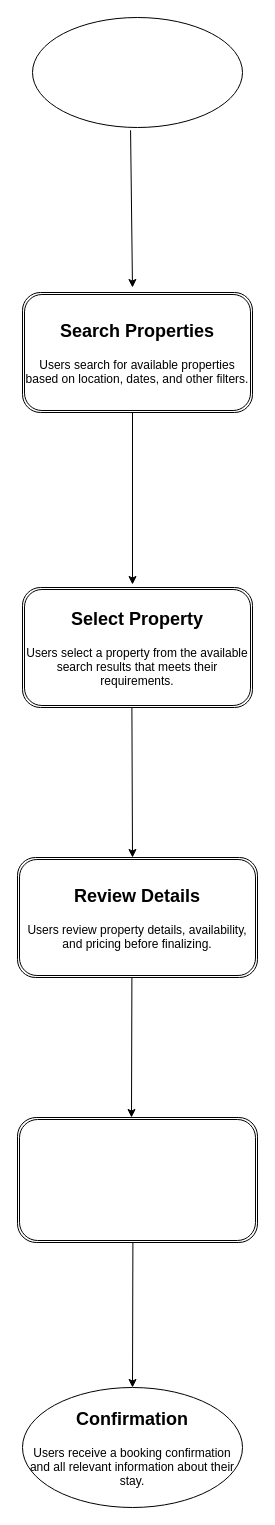
This 275x1525 diagram has some shape labels left out. Each missing label, with the centre of its shape:
"Enter Payment Info Users enter their payment information to secure the booking." belongs at (137,1179).
"Start Initiate the booking process for a property on Airbnb." belongs at (137,72).
